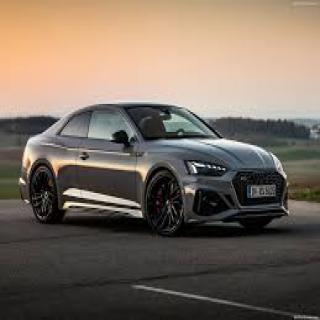Normal_vehicle: (18, 101, 292, 240)
